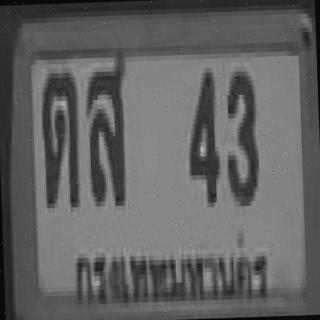A21: (38, 68, 79, 204)
A40: (83, 52, 128, 202)
N03: (223, 66, 258, 202)
N04: (184, 63, 218, 203)
P04: (68, 234, 276, 314)
